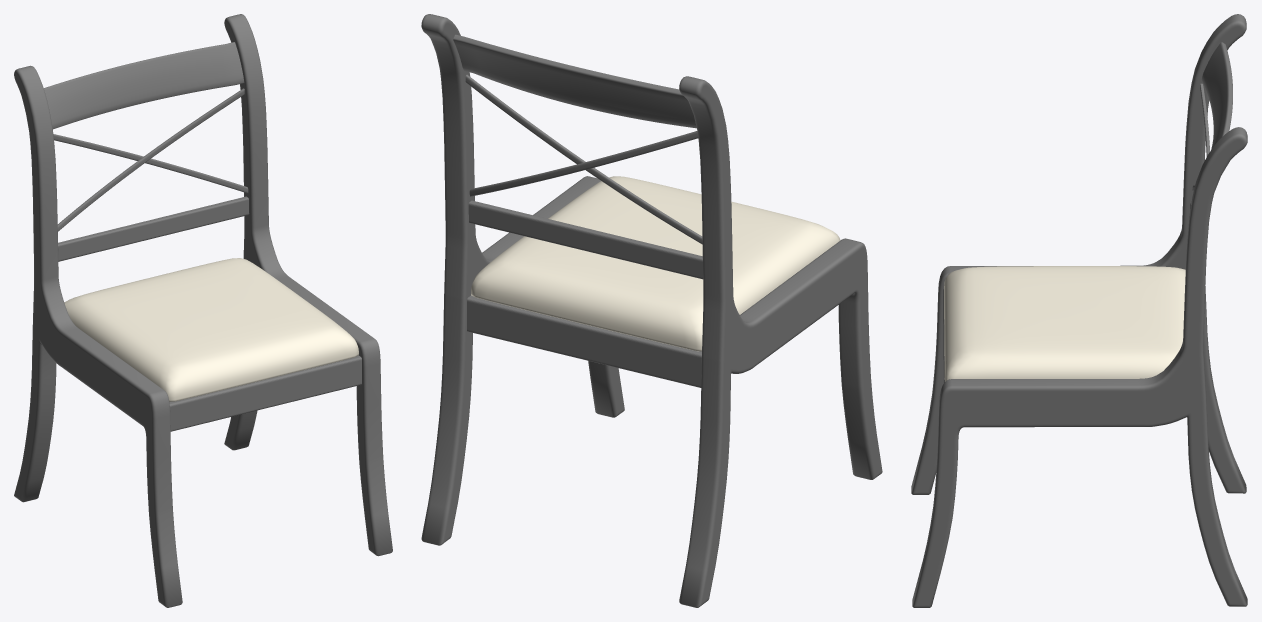
Rendered from Krzeslo.FBX.
3 views of the same model, side by side, from view 1: azimuth 30°, elevation 25°; view 2: azimuth 150°, elevation 25°; view 3: azimuth 270°, elevation 25° (orthographic). The views are drawn at different scales.
Visible parts, largest first — view 1: RenderStuff_Pro_chair; view 2: RenderStuff_Pro_chair; view 3: RenderStuff_Pro_chair.
Boxes of the visible parts, x1,y1,x2,y2 form: RenderStuff_Pro_chair: [14, 14, 392, 607]; RenderStuff_Pro_chair: [421, 14, 882, 607]; RenderStuff_Pro_chair: [911, 14, 1247, 607].
Bounding box in the file's own units: 506 × 908 × 585.
